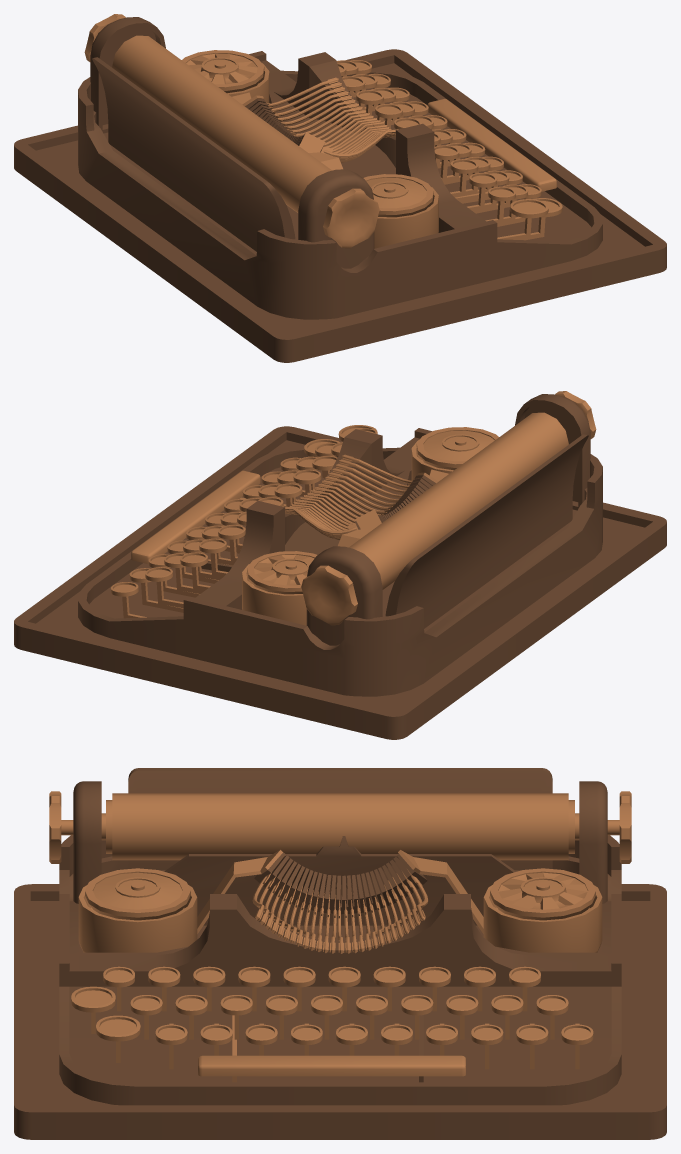
The model's file is Schreibmaschine.fbx.
The picture shows the model from 3 angles, top to bottom: view 1: azimuth 30°, elevation 25°; view 2: azimuth 150°, elevation 25°; view 3: azimuth 270°, elevation 25°; orthographic projection. The views are drawn at different scales.
Visible parts, largest first — view 1: Schreibmaschine; view 2: Schreibmaschine; view 3: Schreibmaschine.
Part boxes in pixels (bbox=[...]): Schreibmaschine: bbox=[14, 14, 666, 362]; Schreibmaschine: bbox=[14, 391, 666, 739]; Schreibmaschine: bbox=[14, 768, 666, 1139].
Bounding box in the file's own units: 0.3486 × 0.1249 × 0.4214.
